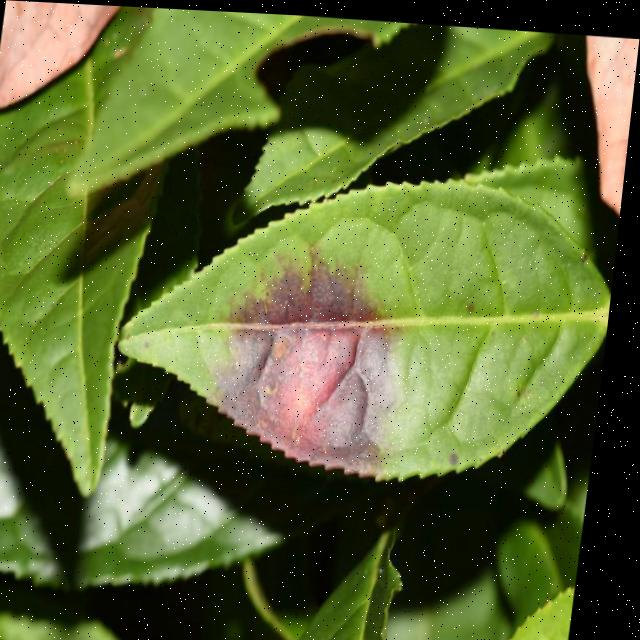Tea exobasidium blight: (214, 248, 433, 454)
